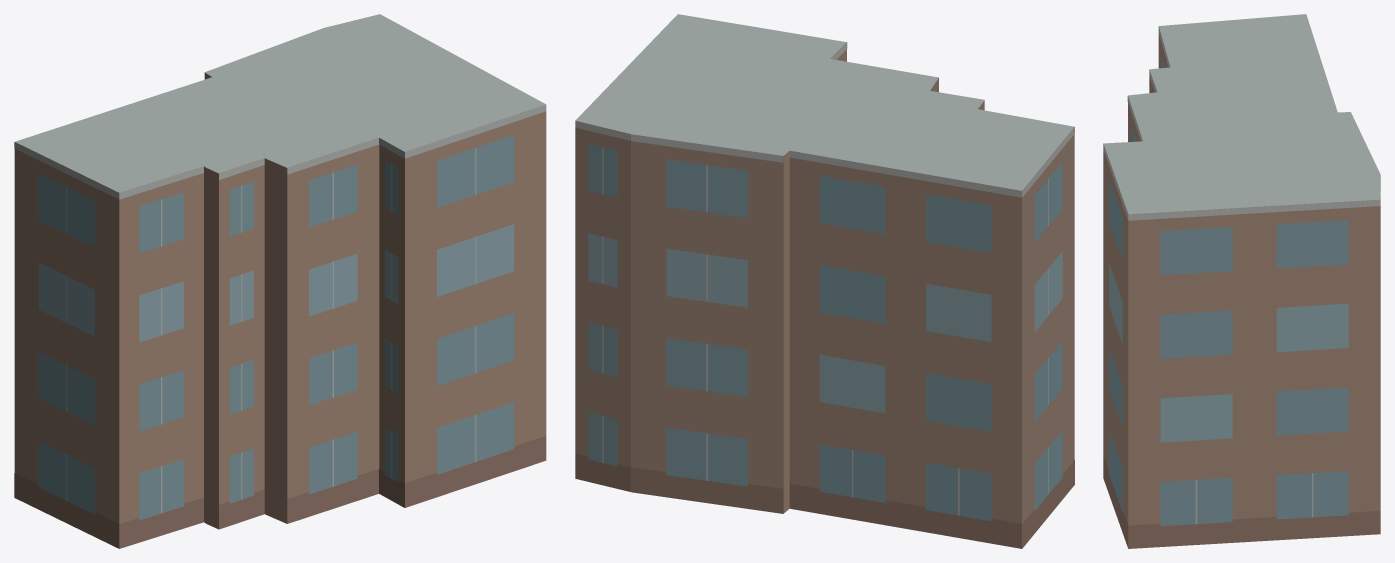
Rendered from survey-upis-33030627.glb.
3 renders of one model, left to right at view 1: azimuth 30°, elevation 25°; view 2: azimuth 150°, elevation 25°; view 3: azimuth 270°, elevation 25°, orthographic. The views are drawn at different scales.
Parts seen in each view (by area): view 1: survey-upis-33030627.tmp; view 2: survey-upis-33030627.tmp; view 3: survey-upis-33030627.tmp.
Boxes of the visible parts, bbox=[...] form: survey-upis-33030627.tmp: bbox=[14, 14, 546, 548]; survey-upis-33030627.tmp: bbox=[575, 14, 1074, 548]; survey-upis-33030627.tmp: bbox=[1103, 14, 1380, 548].
Size of the model in its own units: 16.42 by 12.77 by 9.6.
